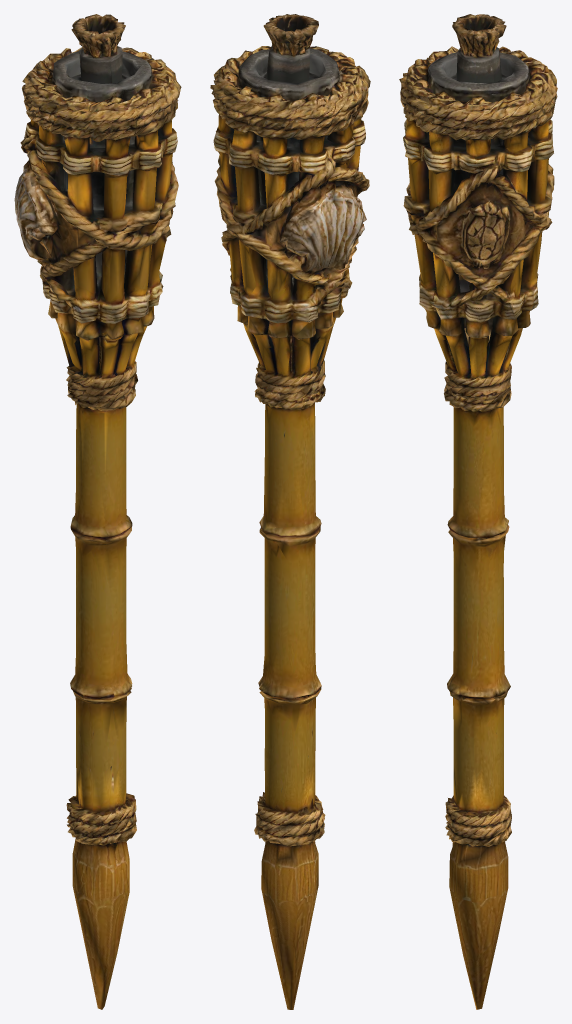
Rendered from SM_TikiTorch.glb.
3 views of the same model, side by side, from view 1: azimuth 30°, elevation 25°; view 2: azimuth 150°, elevation 25°; view 3: azimuth 270°, elevation 25° (orthographic).
Parts seen in each view (by area): view 1: tripo_node_12f84be0-5fba-4c57-b855-cfcb6649301d; view 2: tripo_node_12f84be0-5fba-4c57-b855-cfcb6649301d; view 3: tripo_node_12f84be0-5fba-4c57-b855-cfcb6649301d.
Boxes of the visible parts, left/top/right/bottom form: tripo_node_12f84be0-5fba-4c57-b855-cfcb6649301d: left=14, top=14, right=181, bottom=1009; tripo_node_12f84be0-5fba-4c57-b855-cfcb6649301d: left=210, top=14, right=370, bottom=1009; tripo_node_12f84be0-5fba-4c57-b855-cfcb6649301d: left=399, top=14, right=557, bottom=1009.
Size of the model in its own units: 0.151 by 0.9817 by 0.1432.
Materials: 1 (1 with a texture image).
